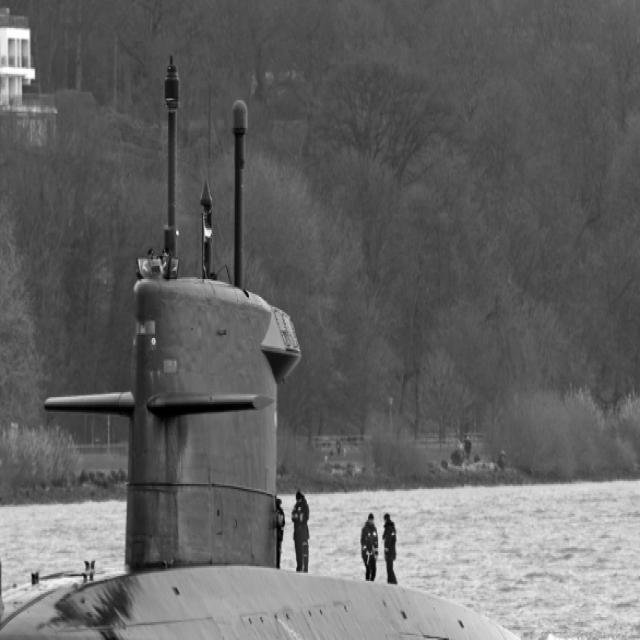submarine: (1, 52, 578, 640)
